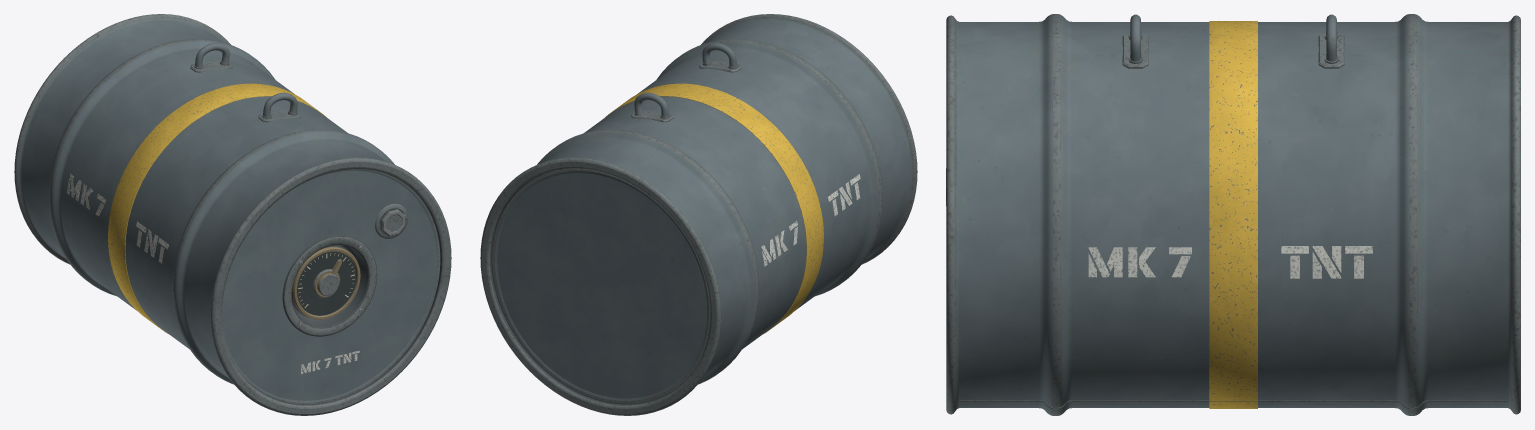
3 renders of one model, left to right at view 1: azimuth 30°, elevation 25°; view 2: azimuth 150°, elevation 25°; view 3: azimuth 270°, elevation 25°, orthographic. The views are drawn at different scales.
Parts seen in each view (by area): view 1: drum_body, end_plate_pistol, hydrostatic_pistol, ordnance_band, lifting_eyes, stencil_MK_7_TNT, filling_plug; view 2: drum_body, end_plate_aft, ordnance_band, lifting_eyes, stencil_MK_7_TNT; view 3: drum_body, ordnance_band, stencil_MK_7_TNT, lifting_eyes, Lower longitudinal sheet lap.
Boxes of the visible parts, x1,y1,x2,y2 form: drum_body: (14,14,451,415); end_plate_pistol: (222,169,440,404); hydrostatic_pistol: (282,235,377,336); ordnance_band: (108,83,326,333); lifting_eyes: (190,43,300,122); stencil_MK_7_TNT: (66,173,359,373); filling_plug: (375,203,407,238); drum_body: (480,14,917,415); end_plate_aft: (491,169,709,404); ordnance_band: (605,83,823,333); lifting_eyes: (631,43,741,122); stencil_MK_7_TNT: (761,174,860,266); drum_body: (946,14,1520,415); ordnance_band: (1209,21,1257,408); stencil_MK_7_TNT: (1088,246,1372,278); lifting_eyes: (1122,14,1344,68); Lower longitudinal sheet lap: (959,400,1507,409).
Size of the model in its own units: 0.56 by 0.5964 by 0.8005.
Materials: 9 (9 with a texture image).
